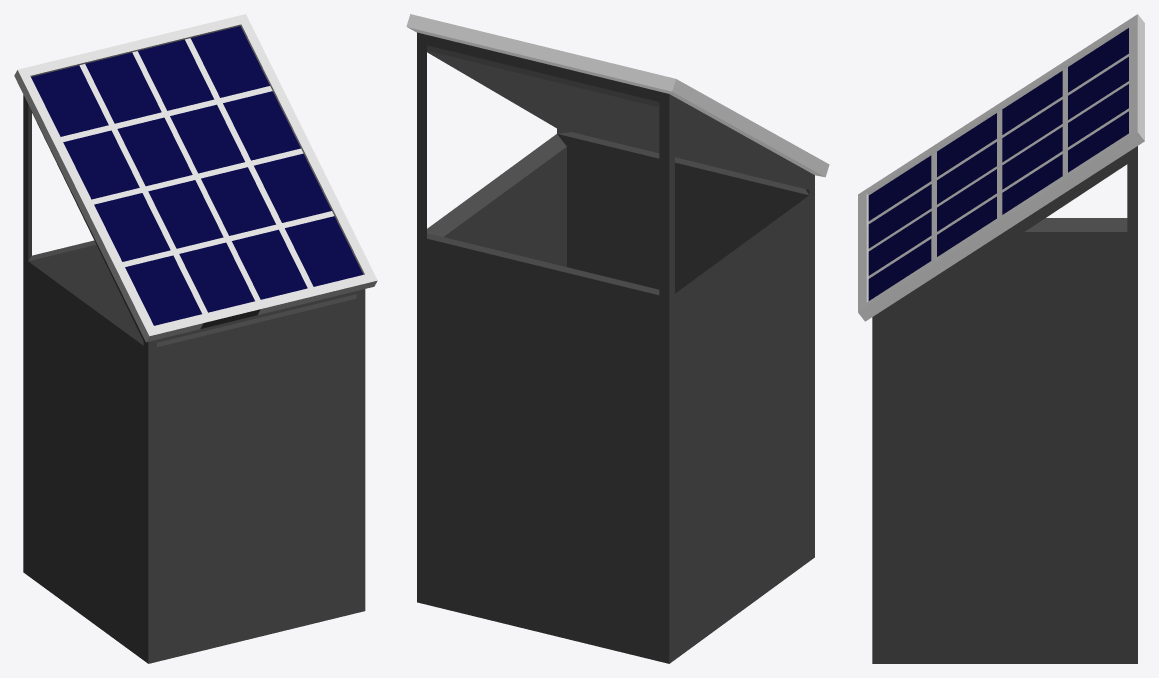
Rendered from SM_SolarBattery.fbx.
3 renders of one model, left to right at view 1: azimuth 30°, elevation 25°; view 2: azimuth 150°, elevation 25°; view 3: azimuth 270°, elevation 25°, orthographic. The views are drawn at different scales.
Parts seen in each view (by area): view 1: Cube; view 2: Cube; view 3: Cube.
Boxes of the visible parts, x1,y1,x2,y2 form: Cube: [14, 14, 377, 663]; Cube: [406, 14, 829, 663]; Cube: [858, 14, 1144, 663].
Size of the model in its own units: 211 by 444 by 216.
